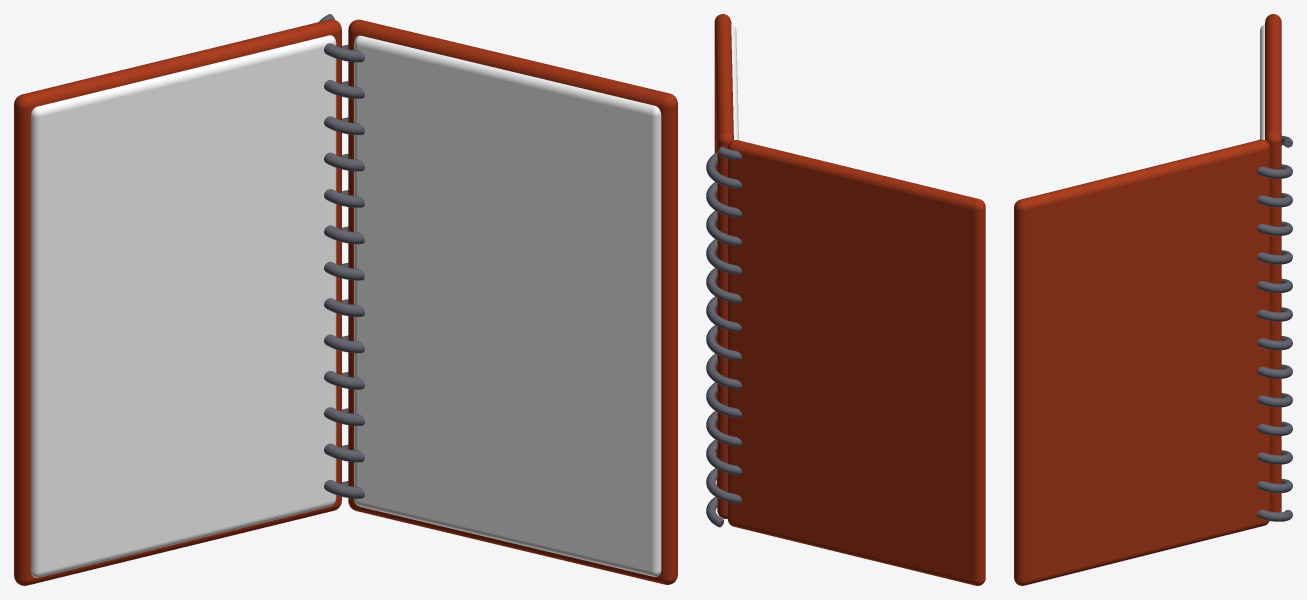
The model's file is NoteBookFoldedSSS.glb.
The picture shows the model from 3 angles, left to right: view 1: azimuth 30°, elevation 25°; view 2: azimuth 150°, elevation 25°; view 3: azimuth 270°, elevation 25°; orthographic projection. The views are drawn at different scales.
Visible parts, largest first — view 1: Cube.001, Cube, Helix; view 2: Cube, Helix, Cube.001; view 3: Cube.001, Cube, Helix.
Part boxes in pixels (<box>): Cube.001: <box>348,19,677,584</box>; Cube: <box>14,19,341,585</box>; Helix: <box>319,14,364,498</box>; Cube: <box>727,140,985,585</box>; Helix: <box>706,146,741,527</box>; Cube.001: <box>714,14,738,518</box>; Cube.001: <box>1014,139,1270,585</box>; Cube: <box>1260,14,1281,512</box>; Helix: <box>1257,135,1292,521</box>.
Bounding box in the file's own units: 3.86 × 3.6 × 2.36.
